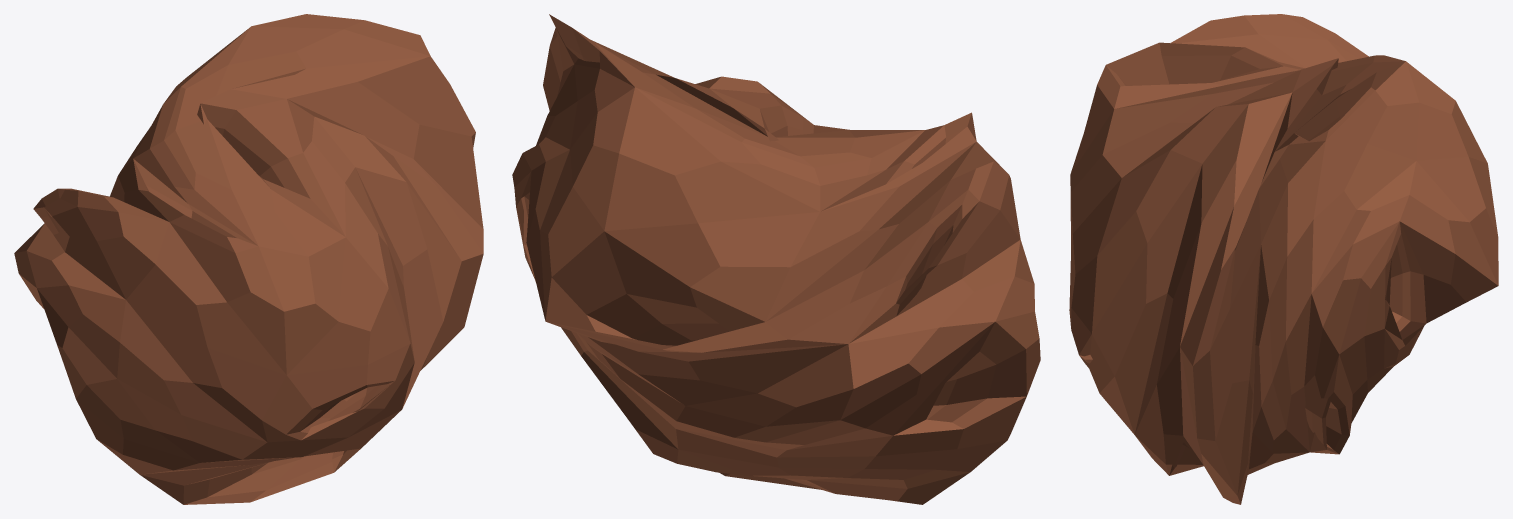
The model's file is Asteroid (1).glb.
3 views of the same model, side by side, from view 1: azimuth 30°, elevation 25°; view 2: azimuth 150°, elevation 25°; view 3: azimuth 270°, elevation 25° (orthographic). The views are drawn at different scales.
Parts seen in each view (by area): view 1: Sphere.011; view 2: Sphere.011; view 3: Sphere.011.
Boxes of the visible parts, x1=… form: Sphere.011: x1=14, y1=14, x2=483, y2=504; Sphere.011: x1=512, y1=14, x2=1040, y2=504; Sphere.011: x1=1069, y1=14, x2=1498, y2=504.
Size of the model in its own units: 9.11 by 8.34 by 7.02.
Materials: 1 (1 with a texture image).
